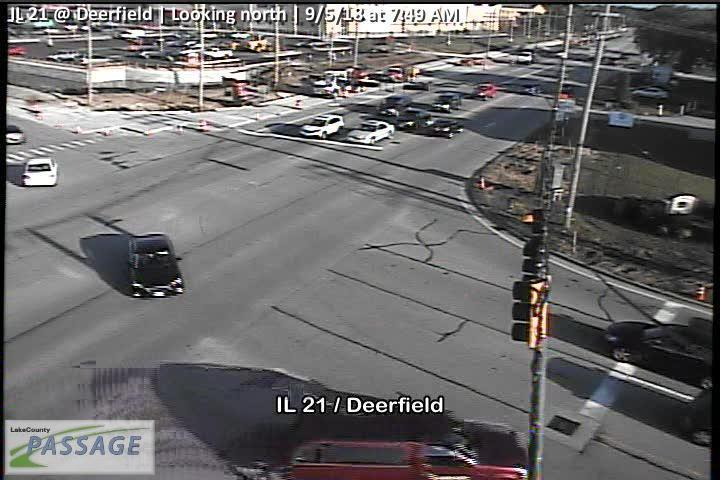SUV: (278, 411, 528, 479), (299, 115, 343, 141)
Sedan: (126, 233, 183, 295), (342, 119, 395, 145), (24, 158, 57, 188), (430, 118, 462, 140), (395, 109, 429, 129), (380, 94, 409, 115), (6, 126, 23, 144)
